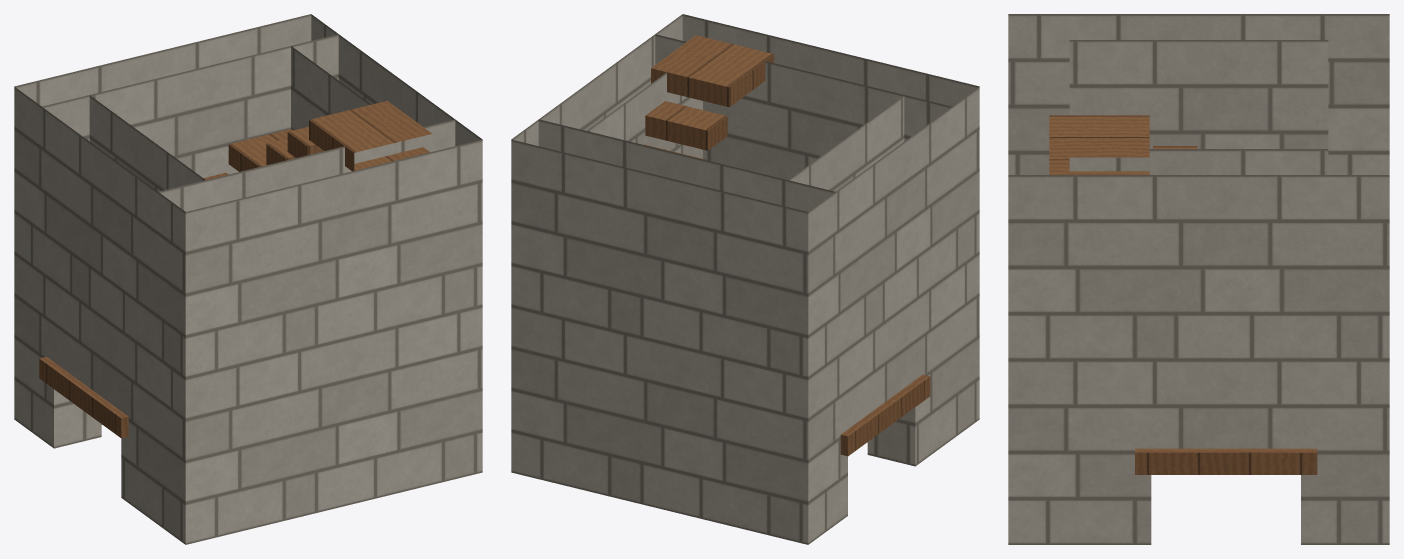
Rendered from Tower_DoorTop_Inline.fbx.
3 renders of one model, left to right at view 1: azimuth 30°, elevation 25°; view 2: azimuth 150°, elevation 25°; view 3: azimuth 270°, elevation 25°, orthographic. The views are drawn at different scales.
Visible parts, largest first — view 1: Tower_DoorTop_Inline; view 2: Tower_DoorTop_Inline; view 3: Tower_DoorTop_Inline.
Part boxes in pixels (x1,y1,x2,y2): Tower_DoorTop_Inline: (14,14,482,544); Tower_DoorTop_Inline: (511,14,979,544); Tower_DoorTop_Inline: (1008,14,1389,544).
Bounding box in the file's own units: 2.94 × 3 × 2.8.
2 materials, 2 textured.
